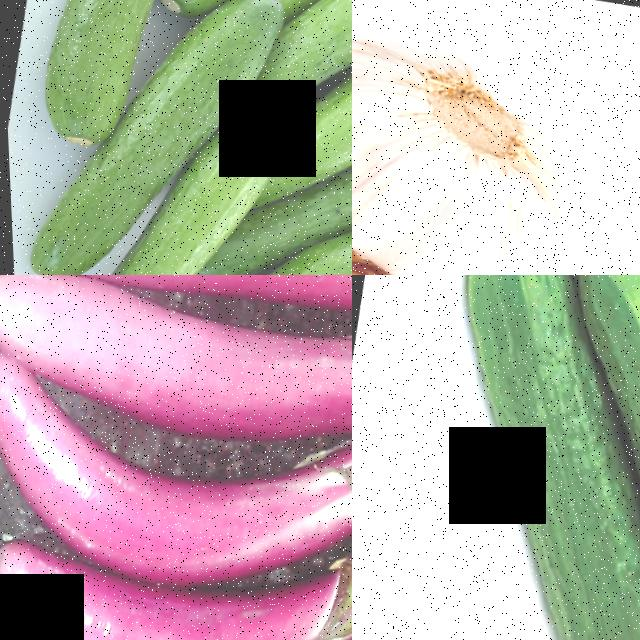cucumber: (417, 275, 634, 536), (532, 275, 640, 525), (122, 0, 284, 152), (27, 0, 176, 155), (471, 513, 640, 640), (17, 134, 150, 275), (221, 205, 352, 275), (42, 230, 200, 275), (276, 0, 352, 85)
eggplant: (0, 353, 352, 618), (0, 275, 352, 455), (0, 530, 352, 640), (0, 275, 352, 363)
garlic: (352, 18, 606, 275)
